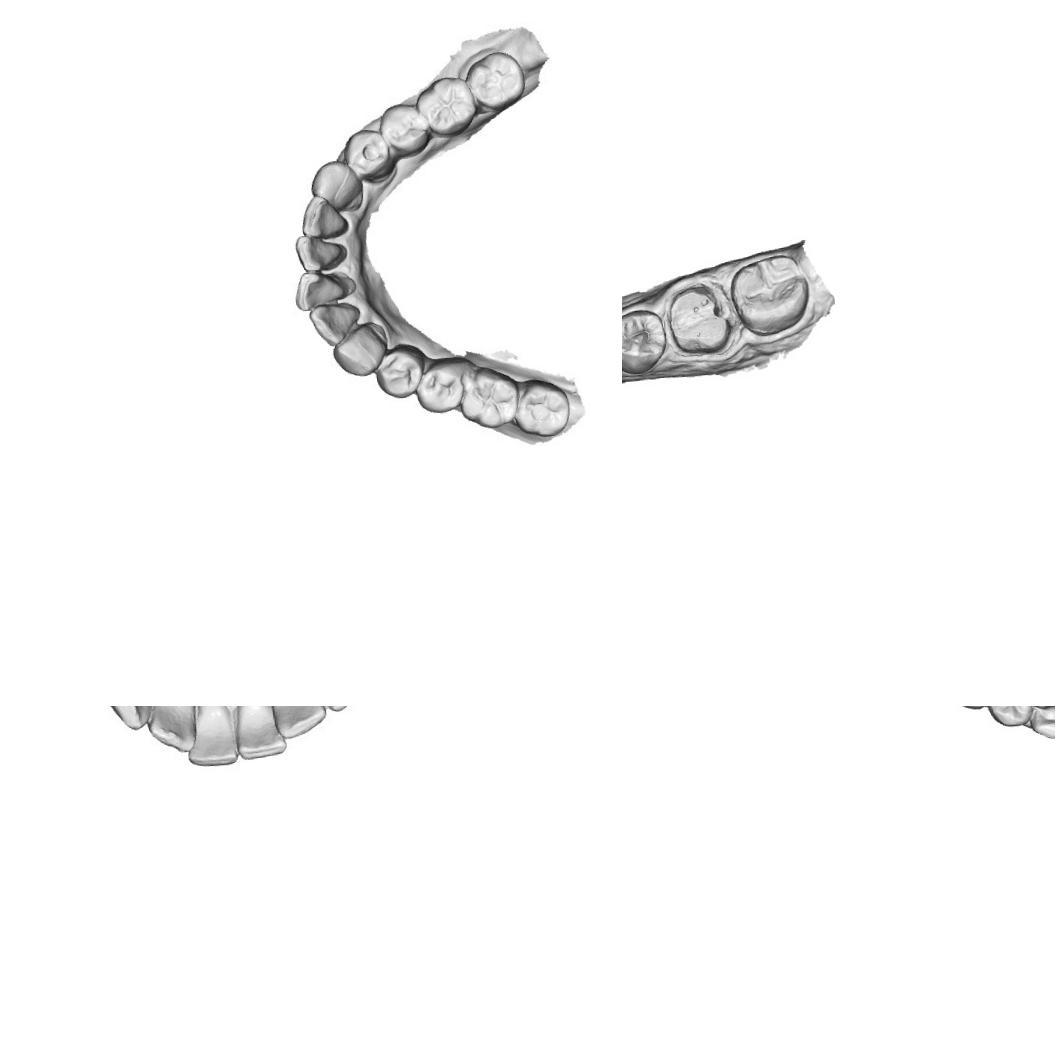canine: (329, 323, 388, 380), (308, 156, 364, 210), (102, 706, 167, 730), (1026, 706, 1055, 741)
crown: (662, 279, 736, 362)
incisor: (181, 706, 246, 770), (290, 266, 352, 314), (230, 706, 286, 758), (144, 706, 206, 751), (306, 300, 360, 348), (297, 192, 349, 239), (291, 229, 342, 275), (265, 706, 330, 735)
molar: (726, 252, 814, 340), (455, 363, 521, 431), (412, 72, 480, 136), (464, 48, 528, 112), (510, 378, 573, 440)
premolar: (377, 98, 435, 158), (411, 356, 468, 416), (622, 305, 670, 376), (340, 125, 396, 184), (373, 341, 424, 402), (984, 706, 1037, 729)
